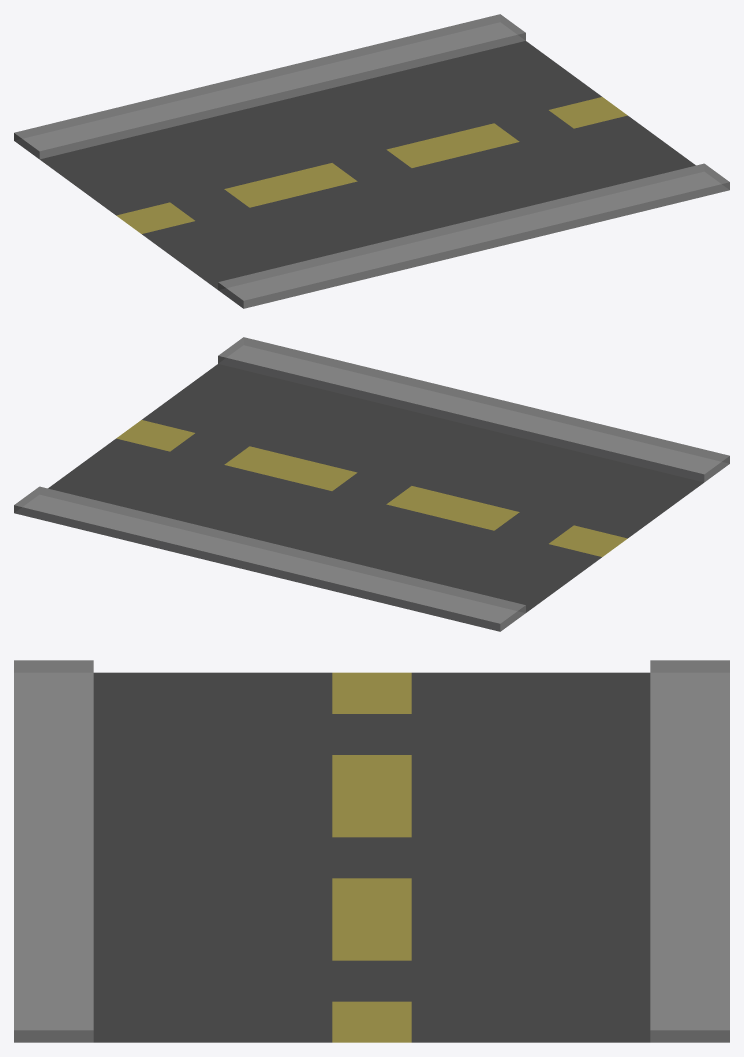
Rendered from Road.fbx.
The picture shows the model from 3 angles, top to bottom: view 1: azimuth 30°, elevation 25°; view 2: azimuth 150°, elevation 25°; view 3: azimuth 270°, elevation 25°; orthographic projection. The views are drawn at different scales.
Parts seen in each view (by area): view 1: pPlane1; view 2: pPlane1; view 3: pPlane1.
Boxes of the visible parts, x1,y1,x2,y2 form: pPlane1: (14,14,729,308); pPlane1: (14,337,729,631); pPlane1: (14,660,729,1042).
Size of the model in its own units: 21.91 by 0.3468 by 17.91.
